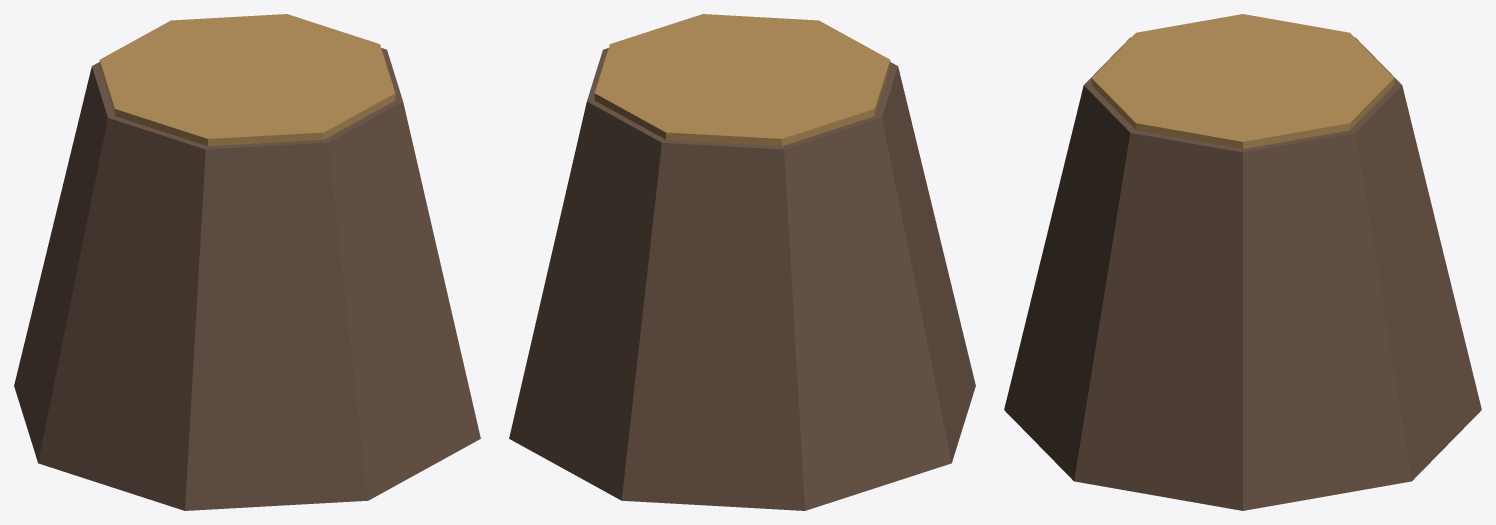
File: SH10_L05_Stump.fbx
3 renders of one model, left to right at view 1: azimuth 30°, elevation 25°; view 2: azimuth 150°, elevation 25°; view 3: azimuth 270°, elevation 25°, orthographic.
Parts seen in each view (by area): view 1: SH10_L05_Stump; view 2: SH10_L05_Stump; view 3: SH10_L05_Stump.
Part boxes in pixels (x1,y1,x2,y2): SH10_L05_Stump: (14,14,480,510); SH10_L05_Stump: (509,14,975,510); SH10_L05_Stump: (1004,14,1481,510).
Bounding box in the file's own units: 120 × 92 × 120.
